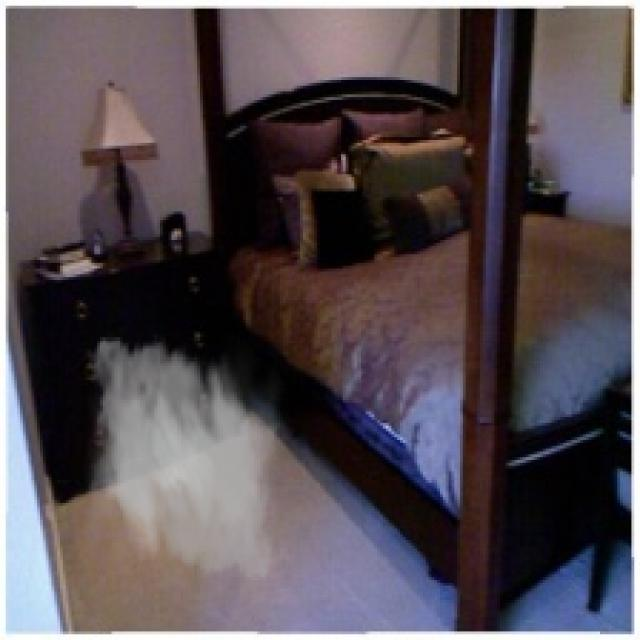smoke: (77, 326, 294, 591)
